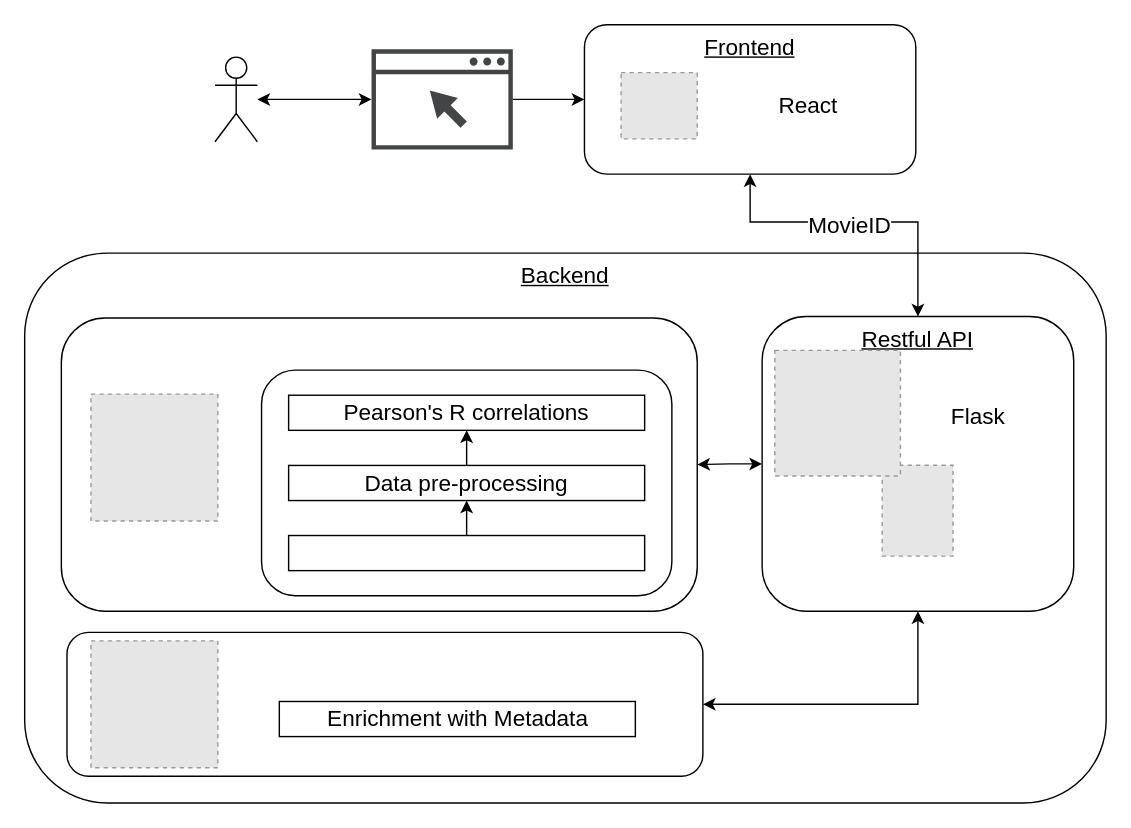
The diagram is 1131 pixels wide and 828 high, and some of its shapes have lost their labels. Grey dashed boxes stand in for pictures. Here are the shapes that lost their labels. From the top down, the box of each, then its label:
(60, 317, 697, 611): Recommender System
(287, 534, 645, 571): Data
(66, 631, 703, 776): Data Post-processing System
